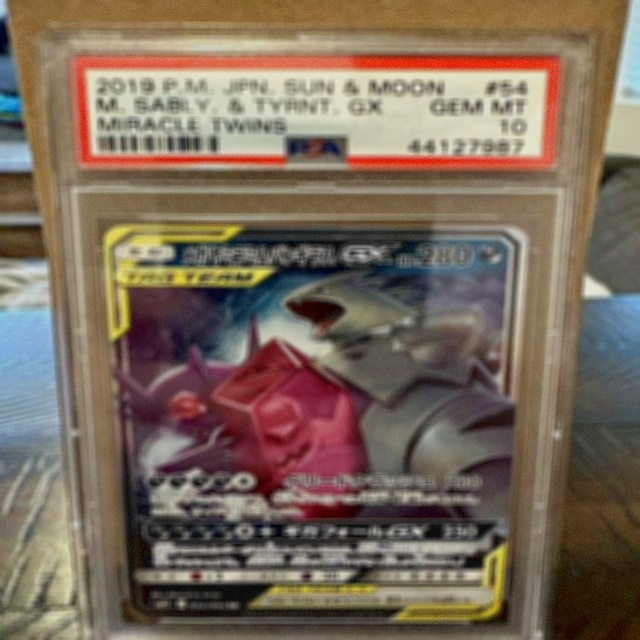card: (104, 225, 529, 622)
